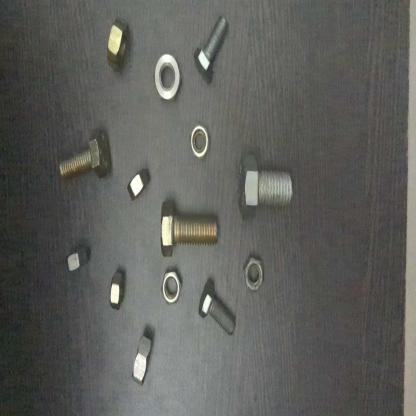Bolts: (59, 110, 112, 203), (143, 200, 222, 260), (233, 151, 295, 223), (193, 276, 240, 338), (192, 13, 232, 83)
NUTS: (102, 15, 134, 76), (149, 48, 182, 106), (131, 328, 157, 393), (122, 160, 152, 211), (240, 252, 268, 300), (186, 121, 213, 160), (63, 241, 89, 281), (158, 268, 183, 308), (108, 268, 126, 318)
